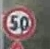limite 50: (1, 4, 36, 39)
